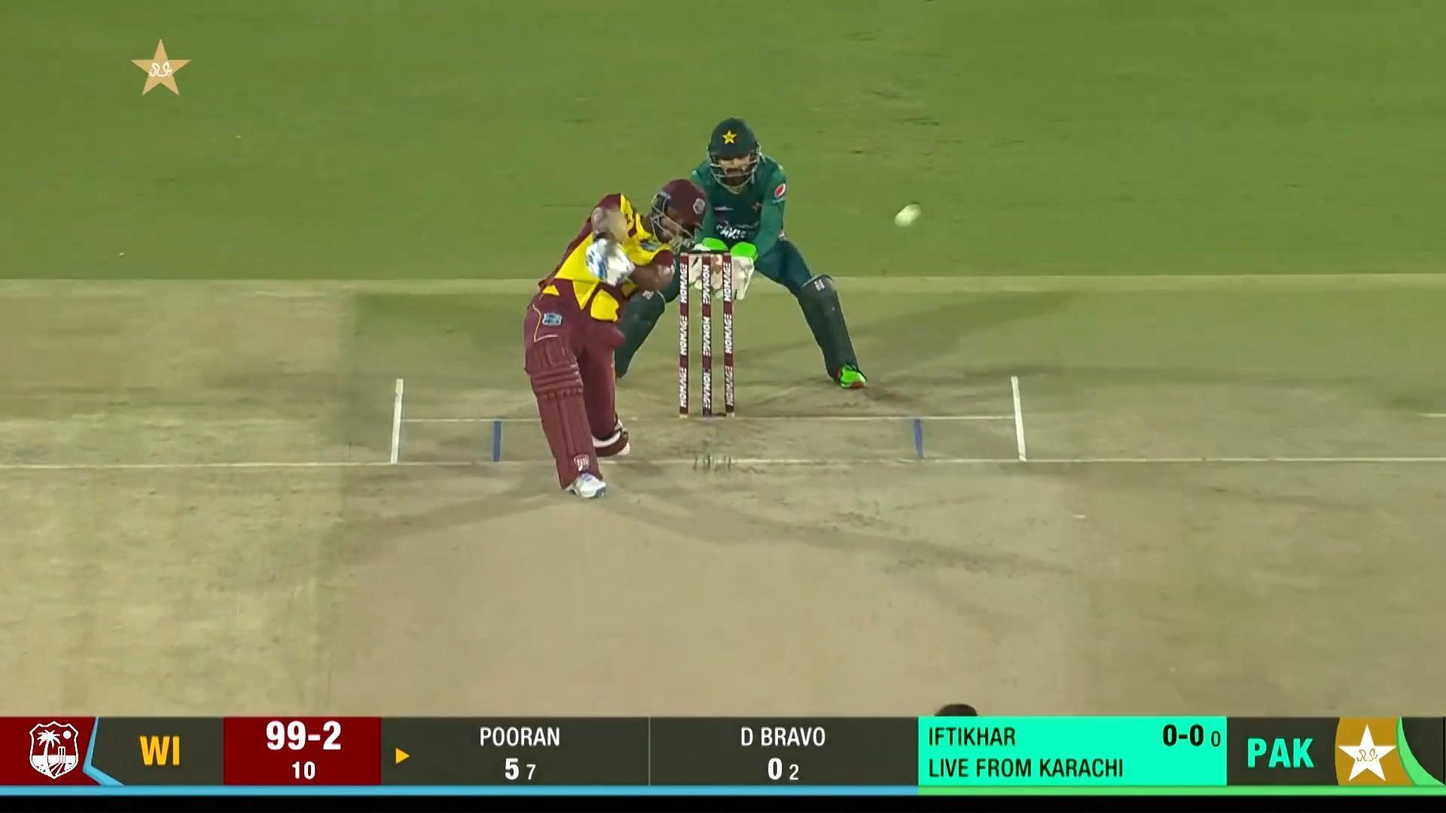BM 1: (521, 177, 709, 501)
BO: (934, 702, 979, 716)
